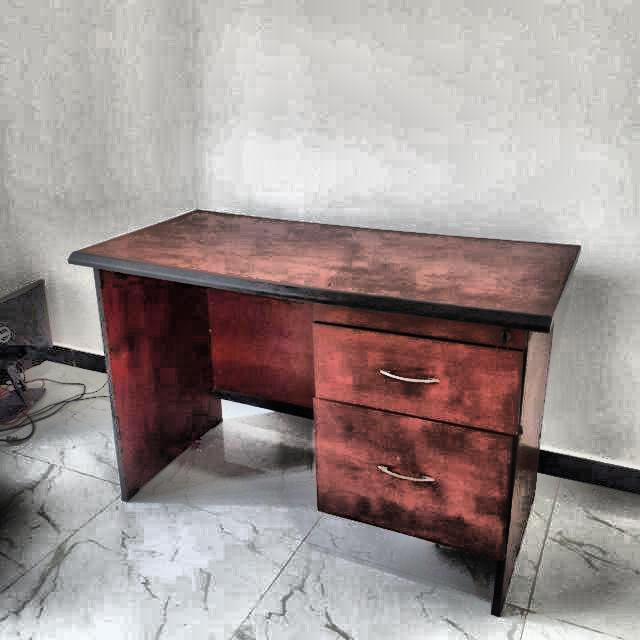mesa: (55, 188, 612, 632)
